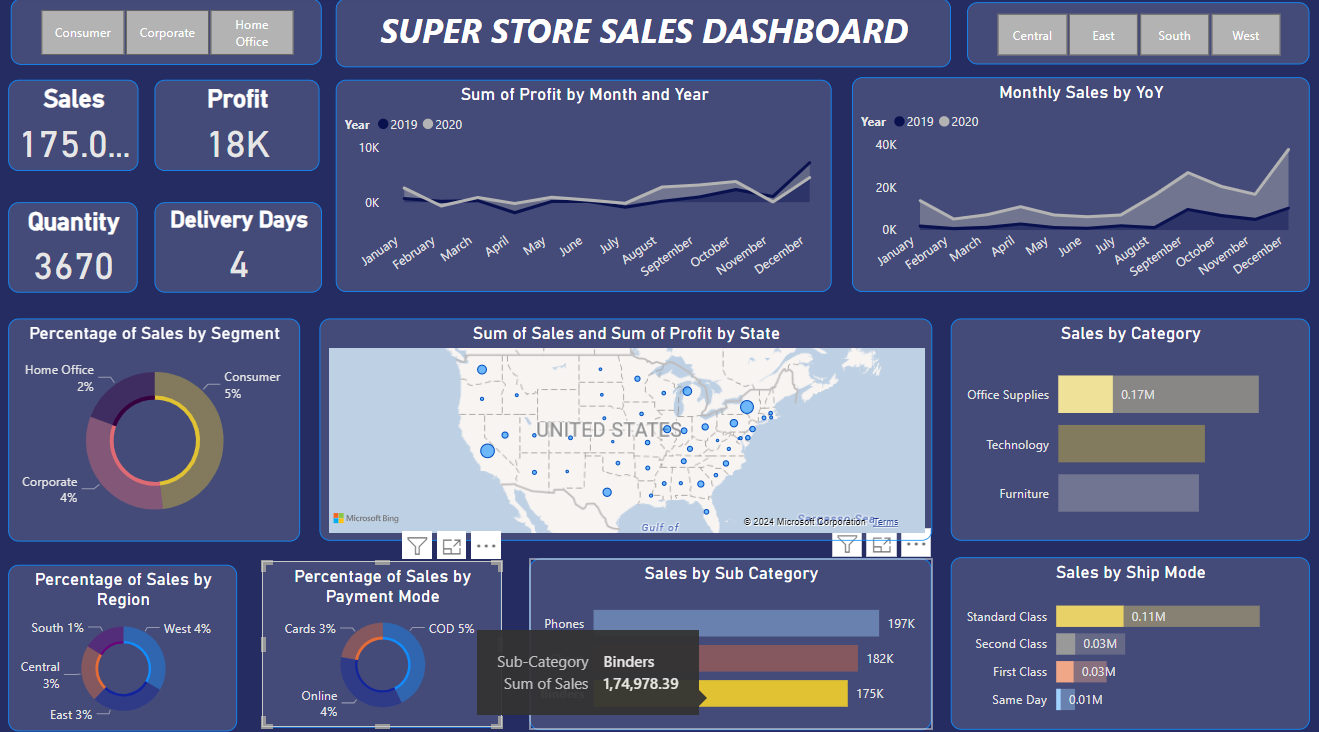

What the dashboard file says about the page in this screenshot:
{"tool":"powerbi","page":{"name":"Page 1","canvas":[1280,720],"ordinal":0},"visuals":[{"type":"clusteredBarChart","title":"Sales by Category","fields":{"Category":["SuperStore_Sales_Dataset.Category"],"Y":["Sum(SuperStore_Sales_Dataset.Sales)"]},"box":[920.2,311.2,346.1,214.7],"z":0},{"type":"clusteredBarChart","title":"Sales by Sub Category","fields":{"Category":["SuperStore_Sales_Dataset.Sub-Category"],"Y":["Sum(SuperStore_Sales_Dataset.Sales)"]},"box":[513.8,542.7,388.3,165.2],"z":1000},{"type":"clusteredBarChart","title":"Sales by Ship Mode","fields":{"Category":["SuperStore_Sales_Dataset.Ship Mode"],"Y":["Sum(SuperStore_Sales_Dataset.Sales)"]},"box":[920,541.2,346.2,166.2],"z":2000},{"type":"stackedAreaChart","title":"Monthly Sales by YoY","fields":{"Y":["Sum(SuperStore_Sales_Dataset.Sales)"],"Category":["SuperStore_Sales_Dataset.Order Date.Variation.Date Hierarchy.Month","SuperStore_Sales_Dataset.Order Date.Variation.Date Hierarchy.Day"],"Series":["SuperStore_Sales_Dataset.Order Date.Variation.Date Hierarchy.Year"]},"box":[825,78.8,441.2,207.5],"z":3000},{"type":"stackedAreaChart","fields":{"Category":["SuperStore_Sales_Dataset.Order Date.Variation.Date Hierarchy.Month","SuperStore_Sales_Dataset.Order Date.Variation.Date Hierarchy.Day"],"Series":["SuperStore_Sales_Dataset.Order Date.Variation.Date Hierarchy.Year"],"Y":["Sum(SuperStore_Sales_Dataset.Profit)"]},"box":[326.2,81.2,478.8,205],"z":4000},{"type":"map","fields":{"Category":["SuperStore_Sales_Dataset.State"],"Size":["Sum(SuperStore_Sales_Dataset.Sales)"]},"box":[311.2,311.2,591,214.7],"z":5000},{"type":"donutChart","title":"Percentage of Sales by Segment","fields":{"Category":["SuperStore_Sales_Dataset.Segment"],"Y":["Sum(SuperStore_Sales_Dataset.Sales)"]},"box":[11.2,311.2,281.2,215],"z":6000},{"type":"donutChart","title":"Percentage of Sales by Payment Mode","fields":{"Category":["SuperStore_Sales_Dataset.Payment Mode"],"Y":["Sum(SuperStore_Sales_Dataset.Sales)"]},"box":[255.7,545.1,231.6,160.4],"z":7000},{"type":"slicer","fields":{"Values":["SuperStore_Sales_Dataset.Region"]},"box":[936.2,6.2,330,60],"z":8000},{"type":"textbox","box":[326.2,2.5,593.8,66.2],"z":9000},{"type":"card","title":"Sales","fields":{"Values":["Sum(SuperStore_Sales_Dataset.Sales)"]},"box":[11.2,81.2,125,87.5],"z":10000},{"type":"card","title":"Quantity","fields":{"Values":["Sum(SuperStore_Sales_Dataset.Quantity)"]},"box":[11.2,198.8,125,87.5],"z":11000},{"type":"card","title":"Profit","fields":{"Values":["Sum(SuperStore_Sales_Dataset.Profit)"]},"box":[161.2,81.2,152.5,87.5],"z":12000},{"type":"card","title":"Delivery Days","fields":{"Values":["Avg(SuperStore_Sales_Dataset.AvgDelievery)"]},"box":[162.5,198.8,151.2,87.5],"z":13000},{"type":"donutChart","title":"Percentage of Sales by Region","fields":{"Category":["SuperStore_Sales_Dataset.Region"],"Y":["Sum(SuperStore_Sales_Dataset.Sales)"]},"box":[10.9,548.7,220.7,160.4],"z":14000},{"type":"slicer","fields":{"Values":["SuperStore_Sales_Dataset.Segment"]},"box":[11.2,2.5,300,63.8],"z":15000}]}

Visuals, with their boxes in screenshot pixels (x1, y1, x2, y2), scaled from the page's 1280x720 canvas onto the 1319x732 screenshot:
"Sales by Category" clusteredBarChart: 948/316/1305/535
"Sales by Sub Category" clusteredBarChart: 529/552/930/720
"Sales by Ship Mode" clusteredBarChart: 948/550/1305/719
"Monthly Sales by YoY" stackedAreaChart: 850/80/1305/291
stackedAreaChart - SuperStore_Sales_Dataset.Order Date.Variation.Date Hierarchy.Month x SuperStore_Sales_Dataset.Order Date.Variation.Date Hierarchy.Day: 336/83/830/291
map - SuperStore_Sales_Dataset.State x Sum(SuperStore_Sales_Dataset.Sales): 321/316/930/535
"Percentage of Sales by Segment" donutChart: 12/316/301/535
"Percentage of Sales by Payment Mode" donutChart: 263/554/502/717
slicer - SuperStore_Sales_Dataset.Region: 965/6/1305/67
textbox: 336/3/948/70
"Sales" card: 12/83/140/172
"Quantity" card: 12/202/140/291
"Profit" card: 166/83/323/172
"Delivery Days" card: 167/202/323/291
"Percentage of Sales by Region" donutChart: 11/558/239/721
slicer - SuperStore_Sales_Dataset.Segment: 12/3/321/67
